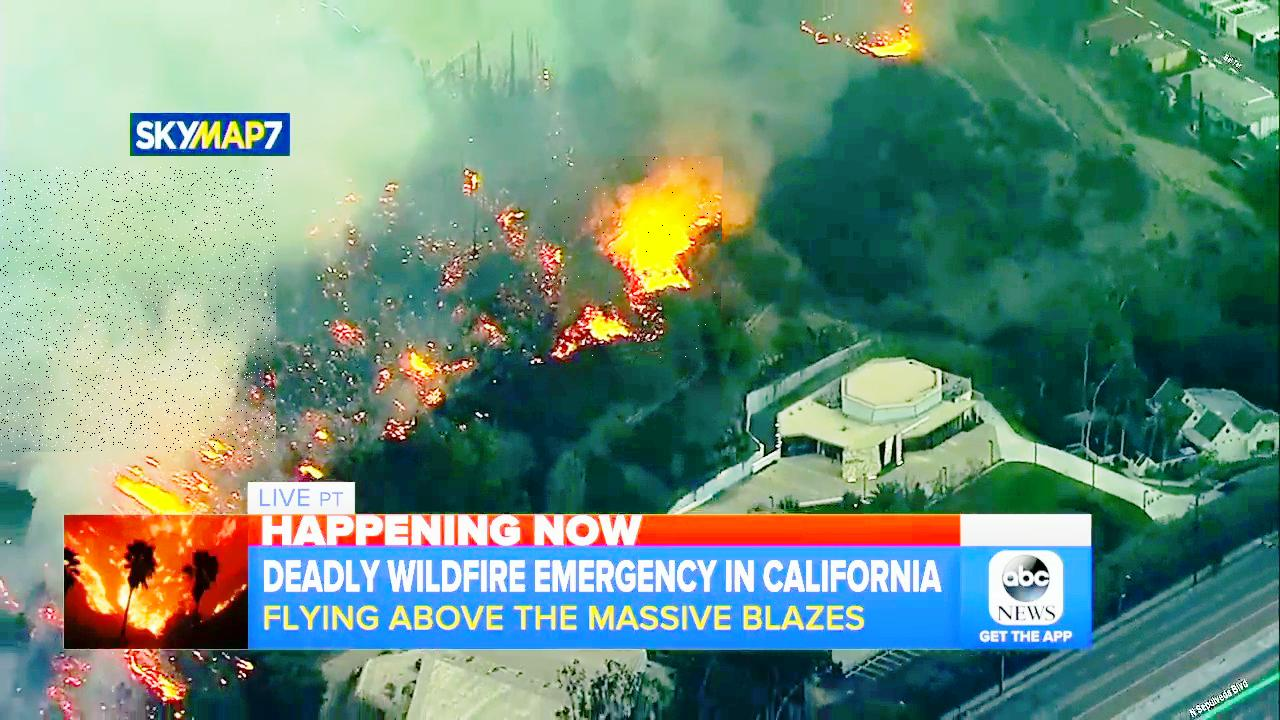fire: (537, 156, 723, 363)
smoke: (0, 167, 276, 452)
